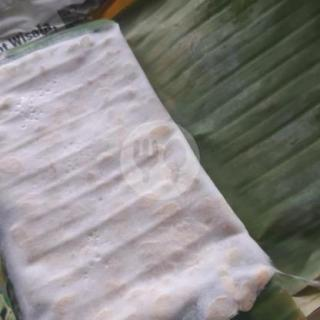Tempe: (1, 21, 279, 319)
